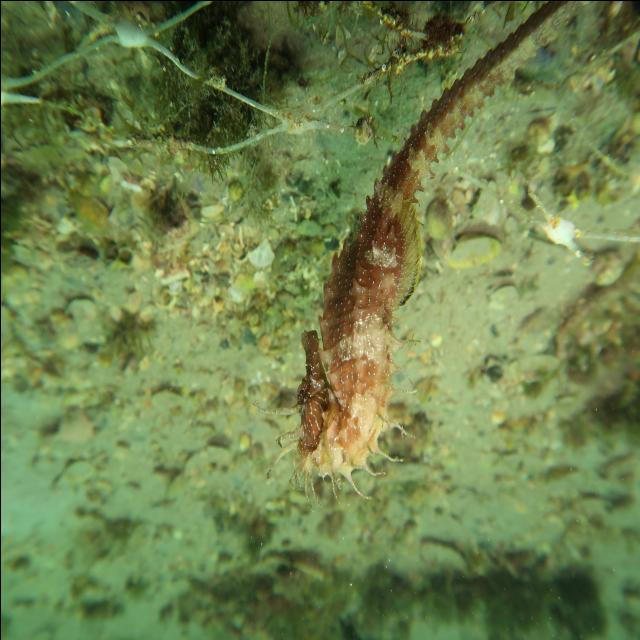Guttu: (284, 320, 344, 490)
